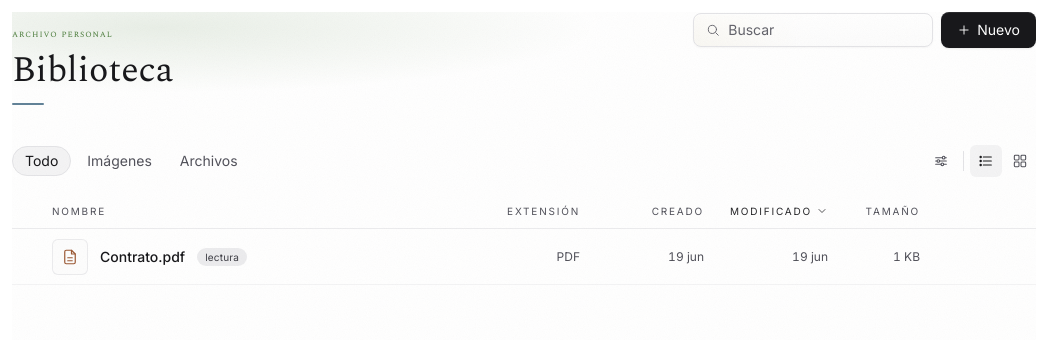
Test case: <BibliotecaView /> › clickear una etiqueta setea ?etiqueta=, muestra el indicador y refetchea
The image size is (1048, 340).
Expected: the text "Contrato.pdf" is shown, [100,246,185,266]
Click the button with aria-label "Filtrar por etiqueta lectura".
click(222, 256)  # box [197,248,247,266]
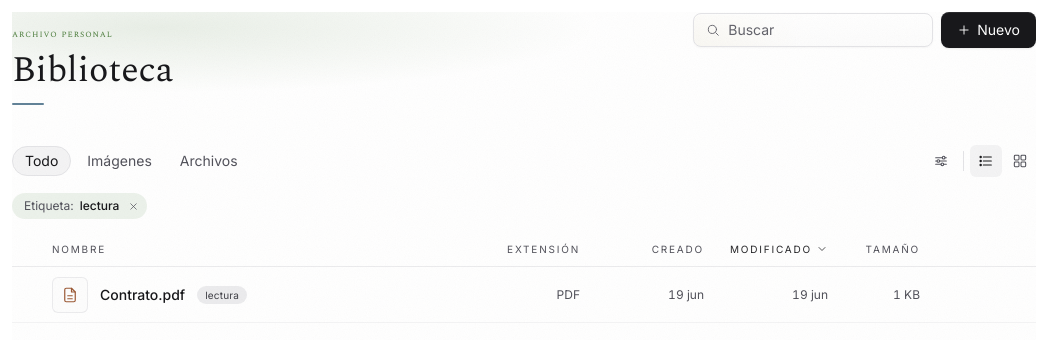
Now the text "Etiqueta:" is shown, box [24,197,74,215]
